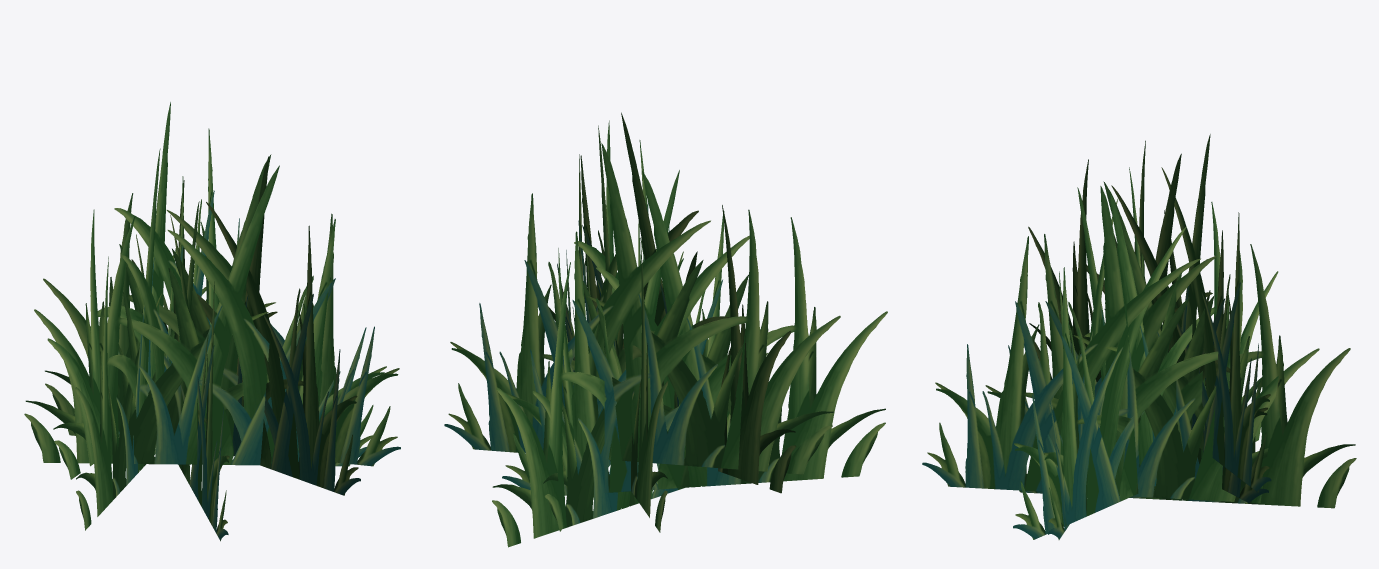
File: Grass.fbx
3 views of the same model, side by side, from view 1: azimuth 30°, elevation 25°; view 2: azimuth 150°, elevation 25°; view 3: azimuth 270°, elevation 25° (orthographic). The views are drawn at different scales.
Parts seen in each view (by area): view 1: Grass1; view 2: Grass1; view 3: Grass1.
Boxes of the visible parts, <box> form: Grass1: <box>24,102,400,541</box>; Grass1: <box>444,112,887,547</box>; Grass1: <box>922,134,1356,539</box>.
Size of the model in its own units: 96.21 by 109 by 104.
